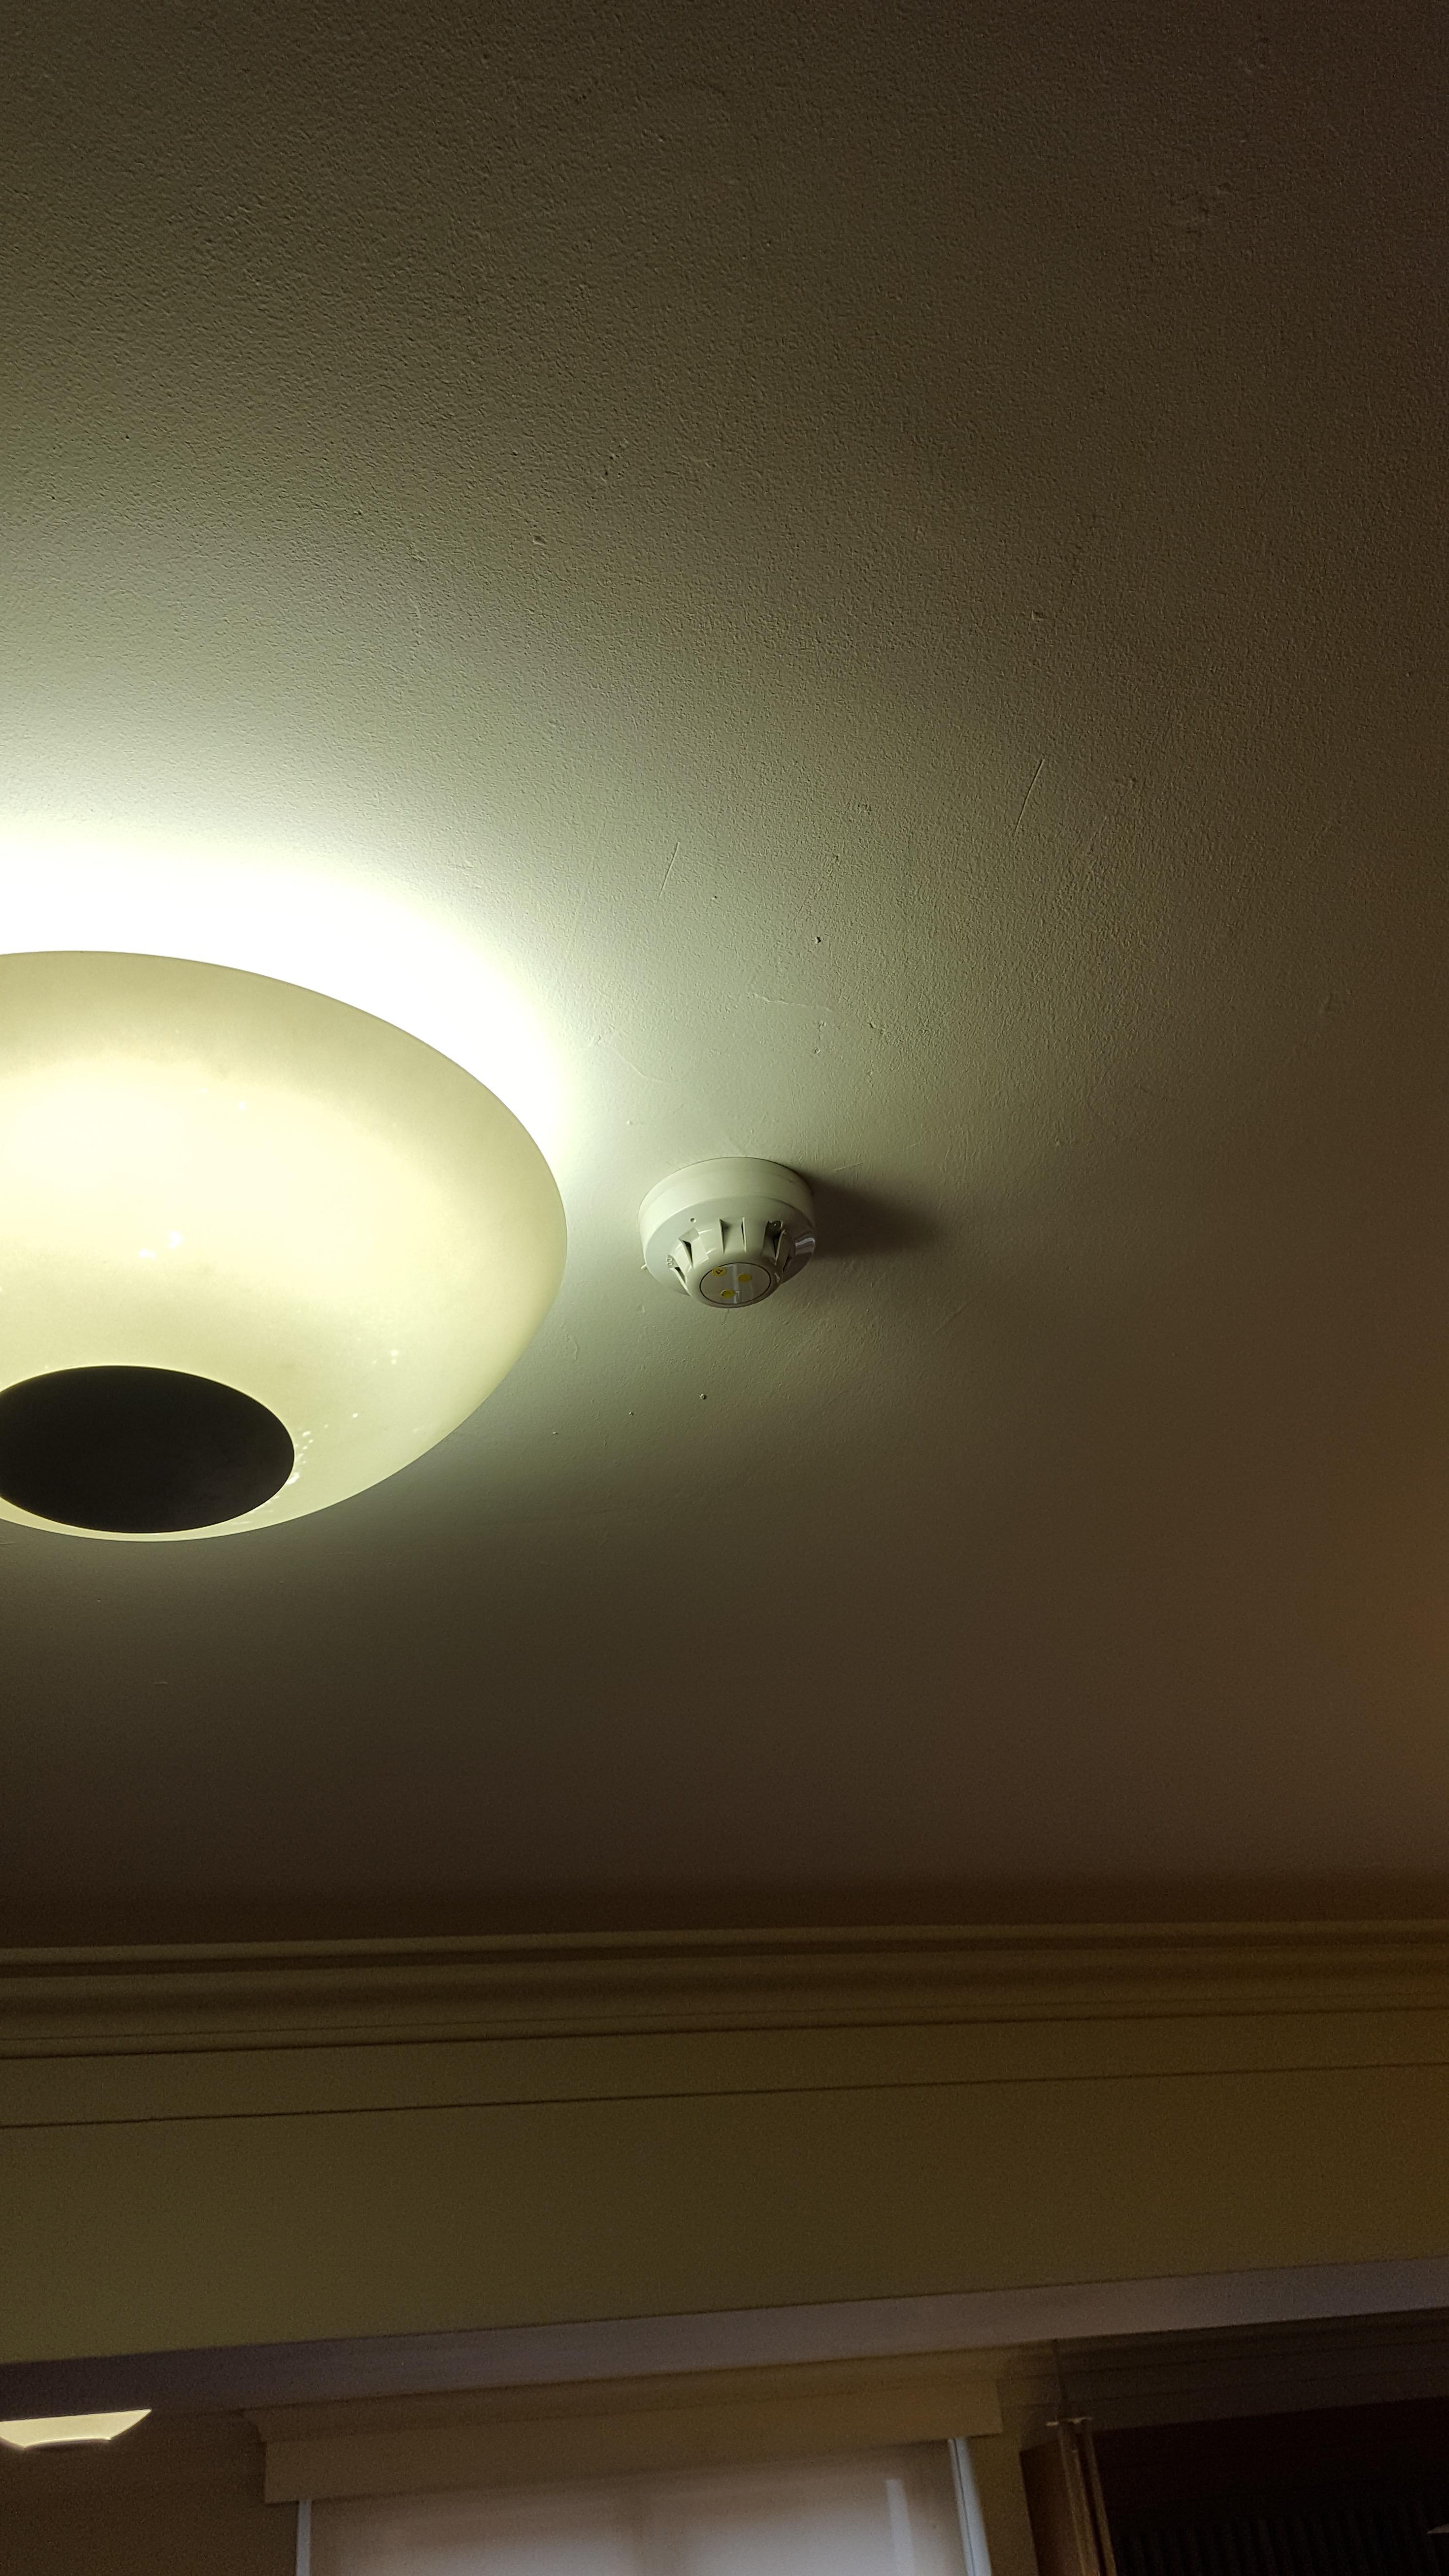detector: (637, 1157, 819, 1309)
